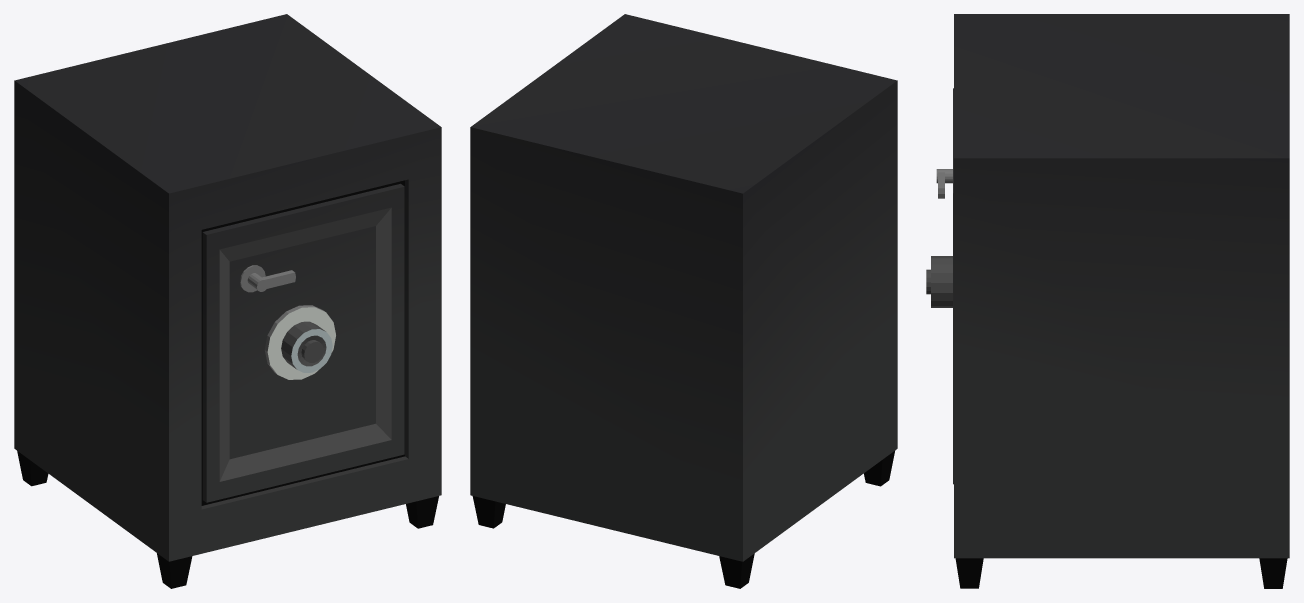
Rendered from Safe.glb.
3 renders of one model, left to right at view 1: azimuth 30°, elevation 25°; view 2: azimuth 150°, elevation 25°; view 3: azimuth 270°, elevation 25°, orthographic. The views are drawn at different scales.
Parts seen in each view (by area): view 1: Safe; view 2: Safe; view 3: Safe.
Part boxes in pixels (x1,y1,x2,y2): Safe: [14, 14, 441, 588]; Safe: [470, 14, 897, 588]; Safe: [926, 14, 1289, 588].
Size of what is drawn, in the model's own units: 0.9695 by 1.36 by 1.03.
Materials: 1 (1 with a texture image).
